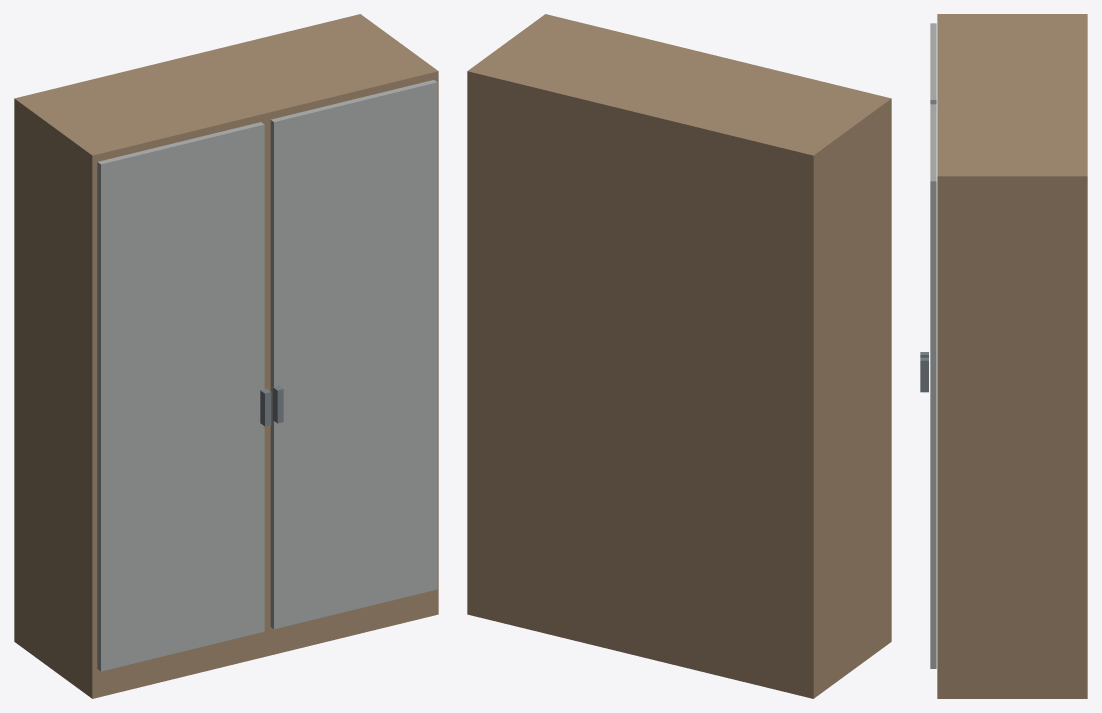
Rendered from ART-006.glb.
The picture shows the model from 3 angles, left to right: view 1: azimuth 30°, elevation 25°; view 2: azimuth 150°, elevation 25°; view 3: azimuth 270°, elevation 25°; orthographic projection. The views are drawn at different scales.
Visible parts, largest first — view 1: 000_Cabinet_body, 001_Cabinet_door_L, 002_Cabinet_door_R; view 2: 000_Cabinet_body; view 3: 000_Cabinet_body, 002_Cabinet_door_R, 001_Cabinet_door_L, 007_Door_pull.
Part boxes in pixels (left/top/right/bottom): 000_Cabinet_body: left=14, top=14, right=438, bottom=698; 001_Cabinet_door_L: left=97, top=122, right=264, bottom=671; 002_Cabinet_door_R: left=270, top=80, right=437, bottom=629; 000_Cabinet_body: left=467, top=14, right=891, bottom=698; 000_Cabinet_body: left=937, top=14, right=1087, bottom=698; 002_Cabinet_door_R: left=930, top=104, right=936, bottom=668; 001_Cabinet_door_L: left=930, top=23, right=936, bottom=104; 007_Door_pull: left=920, top=357, right=928, bottom=392.
Size of the model in its own units: 1.1 by 1.65 by 0.4785.
